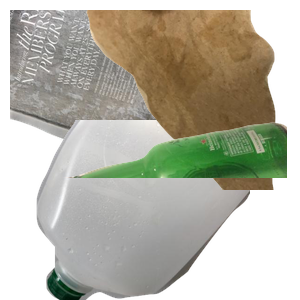glass: (60, 120, 300, 300)
paper: (10, 10, 222, 176)
plastic: (34, 120, 274, 300)
trash: (84, 10, 300, 190)
